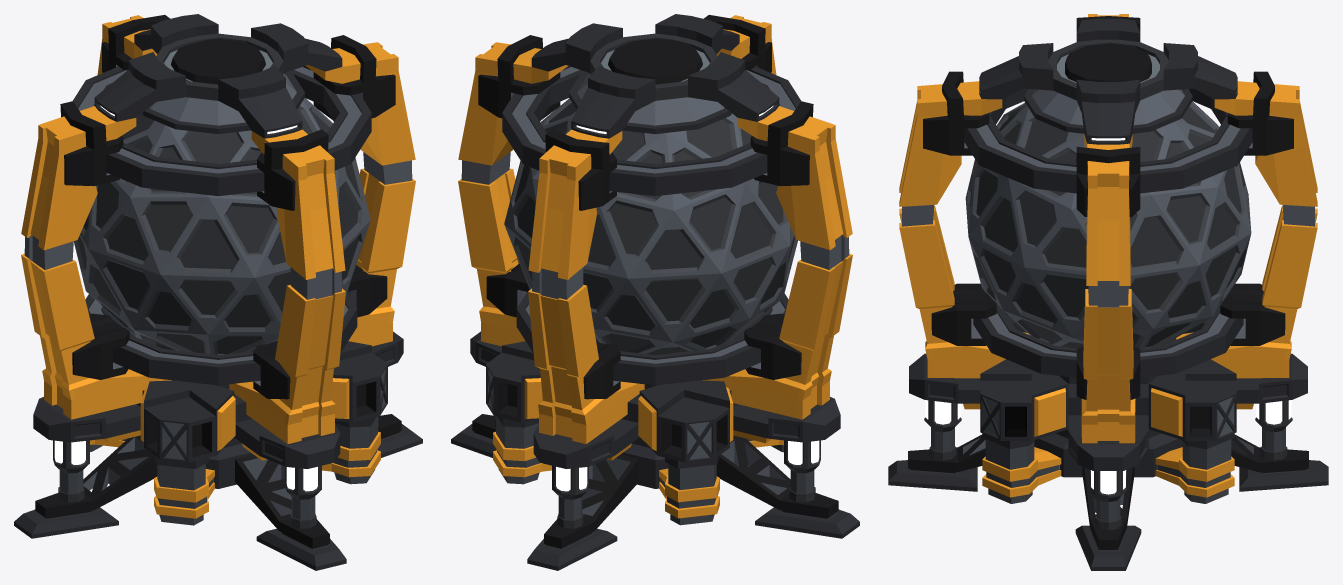
The model's file is SM_Device_03.glb.
3 views of the same model, side by side, from view 1: azimuth 30°, elevation 25°; view 2: azimuth 150°, elevation 25°; view 3: azimuth 270°, elevation 25° (orthographic). The views are drawn at different scales.
Parts seen in each view (by area): view 1: SM_Device_03, SM_Device_03.001; view 2: SM_Device_03, SM_Device_03.001; view 3: SM_Device_03, SM_Device_03.001.
Part boxes in pixels (box(x1,y1,x2,y2)): SM_Device_03: box(14, 14, 422, 570); SM_Device_03.001: box(73, 98, 370, 354); SM_Device_03: box(451, 14, 859, 570); SM_Device_03.001: box(504, 98, 797, 354); SM_Device_03: box(888, 14, 1328, 570); SM_Device_03.001: box(965, 101, 1251, 348).
Bounding box in the file's own units: 5.62 × 5.94 × 5.62.
Materials: 2 (1 with a texture image).
